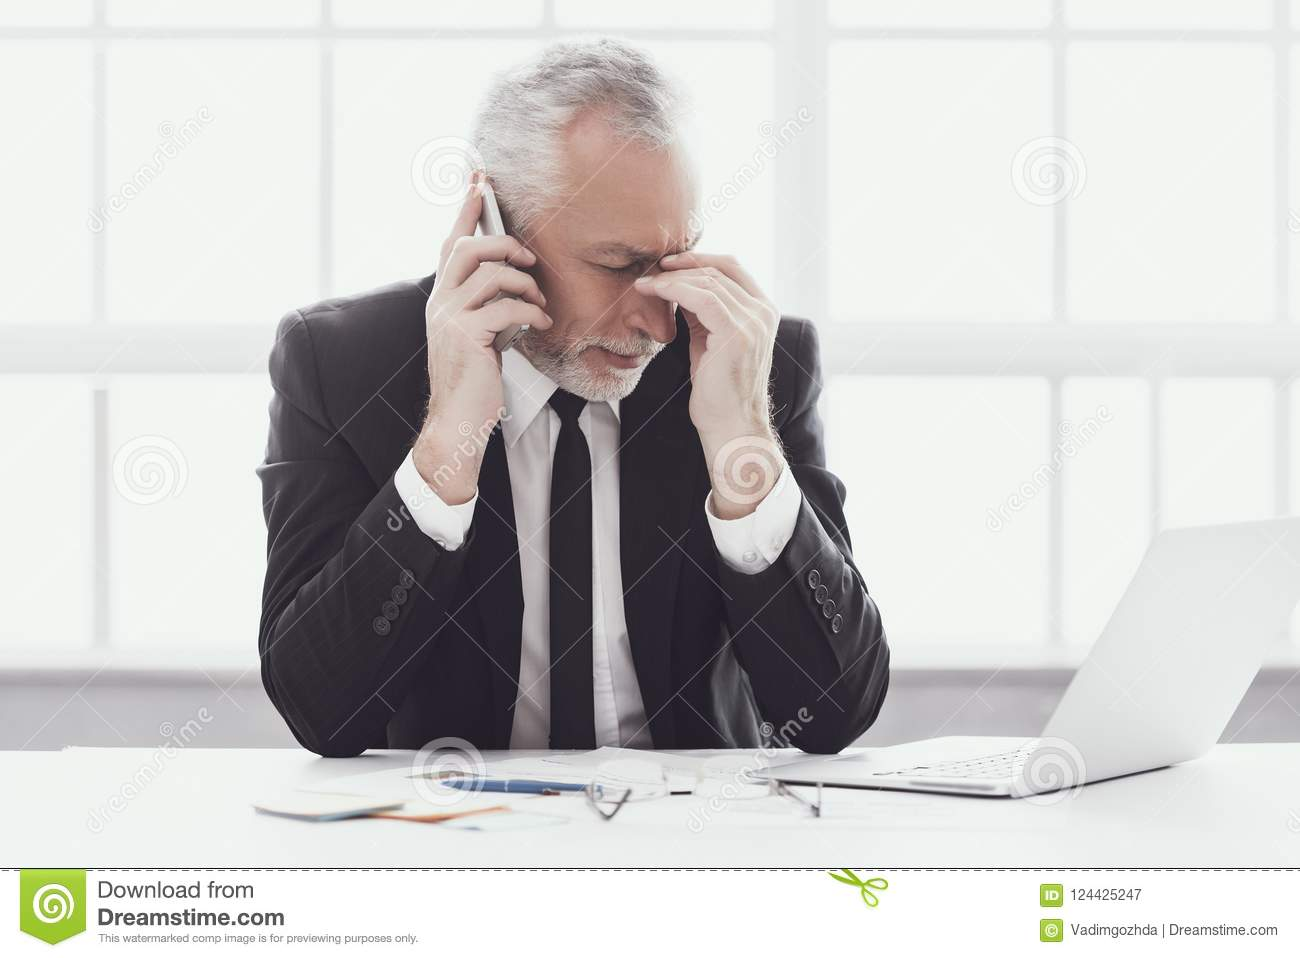phone: (466, 184, 531, 361)
talk: (421, 171, 697, 485)
